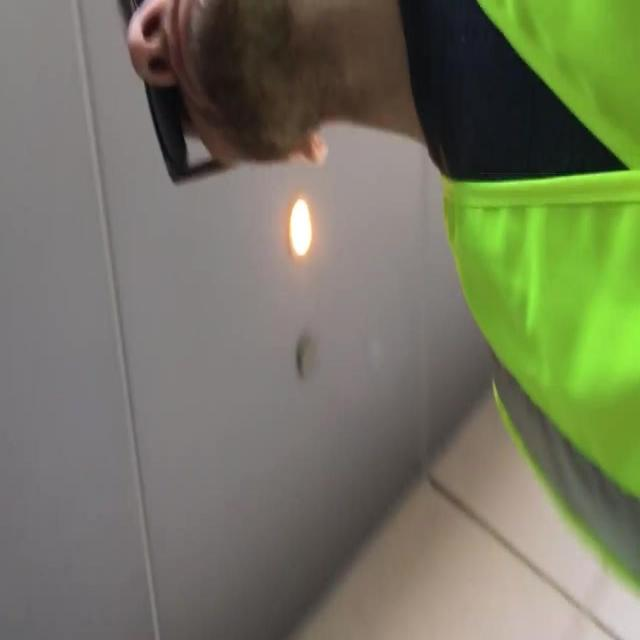Reflective-Jacket: (410, 0, 640, 624)
